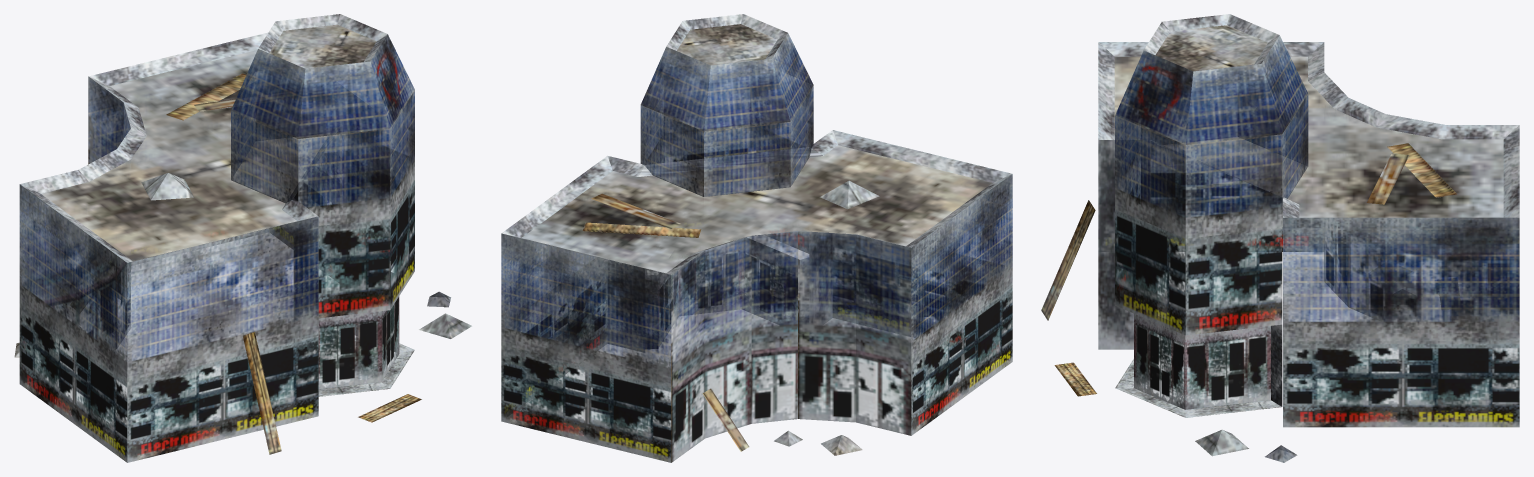
Rendered from Civilian - Commercial Building - Asian Electric Retail - Damaged and Snow - CBNElecRtl_DS.glb.
3 renders of one model, left to right at view 1: azimuth 30°, elevation 25°; view 2: azimuth 150°, elevation 25°; view 3: azimuth 270°, elevation 25°, orthographic. The views are drawn at different scales.
Parts seen in each view (by area): view 1: CBNELECRTL_DS; view 2: CBNELECRTL_DS; view 3: CBNELECRTL_DS.
Part boxes in pixels (box(x1,y1,x2,y2)): CBNELECRTL_DS: box(14, 14, 471, 462); CBNELECRTL_DS: box(501, 14, 1012, 462); CBNELECRTL_DS: box(1041, 14, 1519, 462).
Bounding box in the file's own units: 65.65 × 49.24 × 62.92.
1 material, 1 textured.
